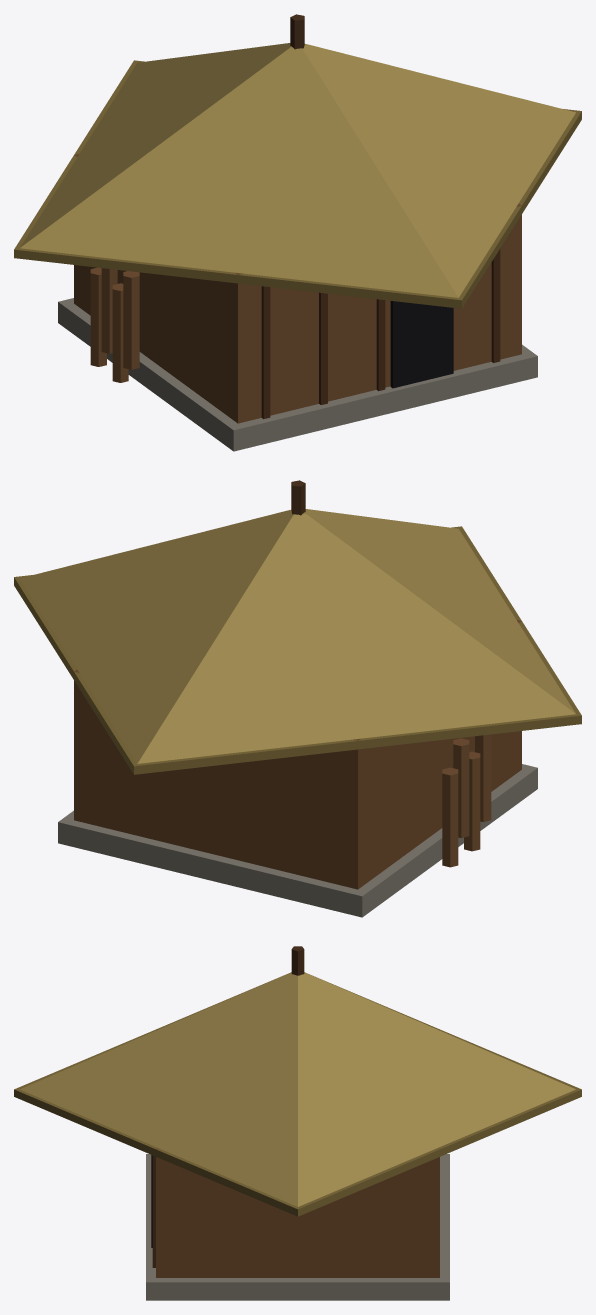
The model's file is thatched-hut.glb.
3 views of the same model, one above another, from view 1: azimuth 30°, elevation 25°; view 2: azimuth 150°, elevation 25°; view 3: azimuth 270°, elevation 25° (orthographic). The views are drawn at different scales.
Parts seen in each view (by area): view 1: thatched-hut; view 2: thatched-hut; view 3: thatched-hut.
Boxes of the visible parts, x1=… form: thatched-hut: x1=14, y1=14, x2=581, y2=451; thatched-hut: x1=14, y1=480, x2=581, y2=917; thatched-hut: x1=14, y1=946, x2=581, y2=1300.
Bounding box in the file's own units: 8.4 × 4.7 × 8.4.
